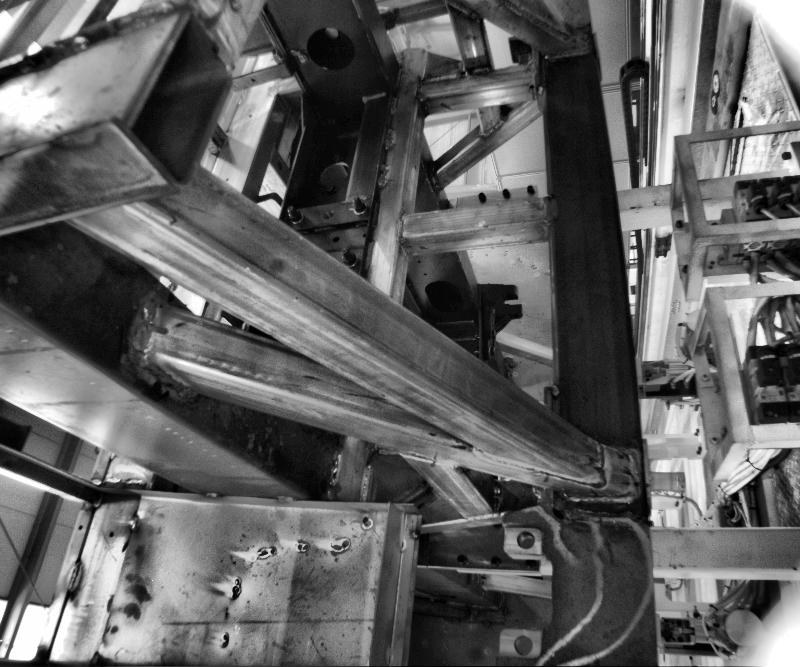bracket: (475, 278, 525, 363)
hole: (513, 634, 533, 653), (514, 529, 535, 546), (150, 321, 172, 336), (108, 530, 116, 539), (78, 522, 84, 531), (403, 243, 412, 249), (410, 164, 418, 170)
welding: (142, 300, 170, 363), (564, 492, 650, 506), (636, 452, 648, 503), (66, 559, 84, 593), (601, 440, 611, 489), (546, 197, 560, 222), (202, 490, 222, 503), (397, 213, 405, 241), (275, 495, 299, 503), (132, 517, 140, 528)
